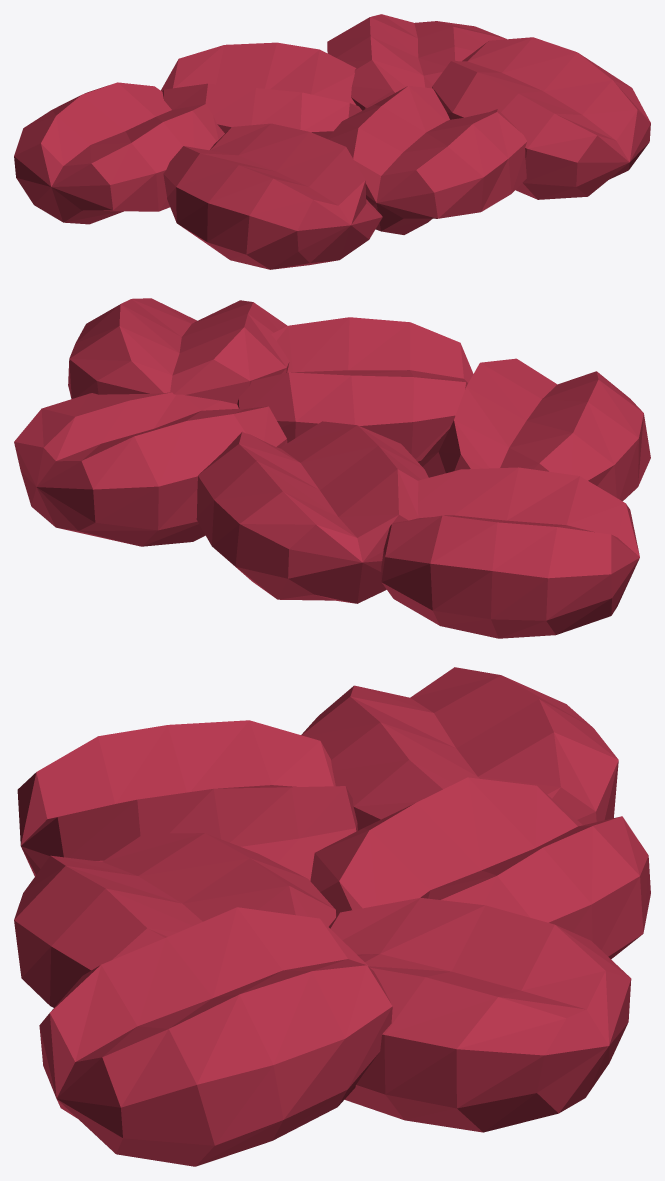
File: cranberry.glb
3 views of the same model, one above another, from view 1: azimuth 30°, elevation 25°; view 2: azimuth 150°, elevation 25°; view 3: azimuth 270°, elevation 25° (orthographic). The views are drawn at different scales.
Size of the model in its own units: 3.09 by 0.6721 by 2.02.
